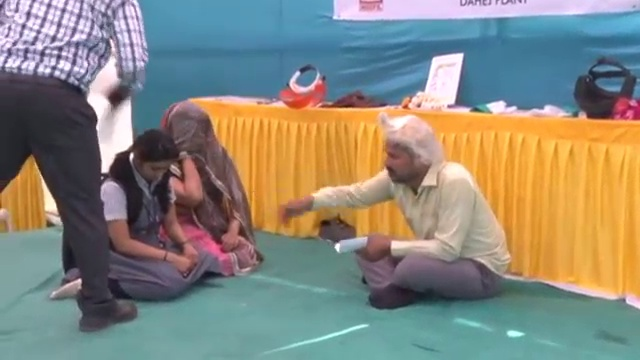helmet_off: (373, 117, 446, 184), (129, 128, 180, 189), (166, 106, 215, 162)
person: (0, 0, 150, 329), (273, 116, 512, 310), (50, 127, 215, 303), (163, 105, 264, 274)
